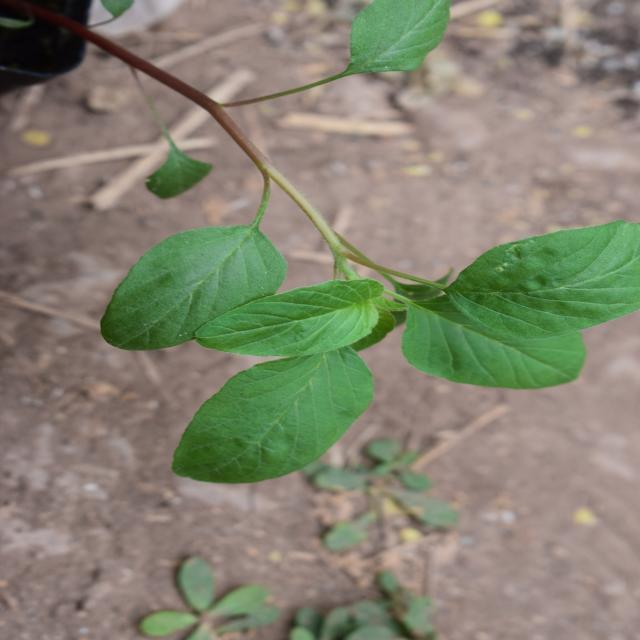pigweed: (186, 1, 485, 531)
